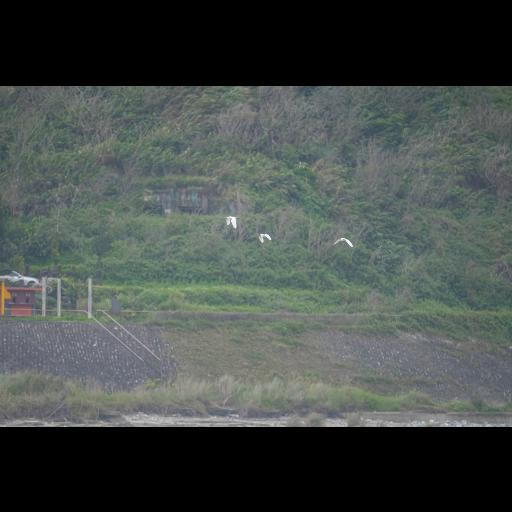chinese_egret: (332, 236, 354, 248), (224, 214, 238, 228), (256, 232, 272, 242)
